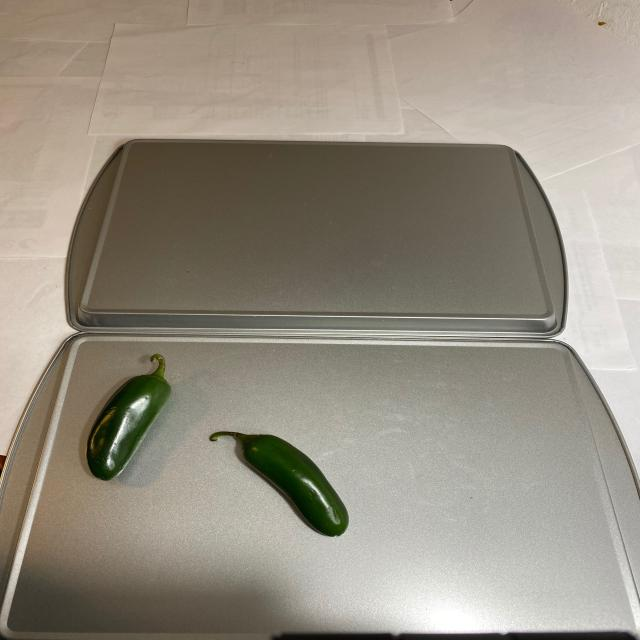chilli: (74, 347, 358, 547)
